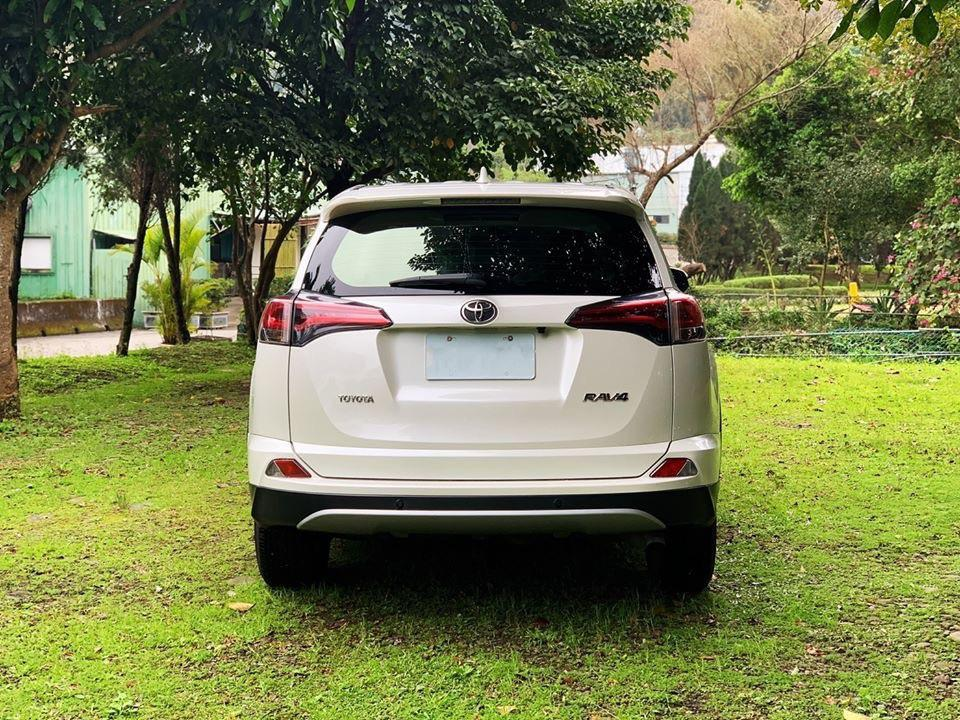toyota_rav4: (259, 181, 708, 569)
